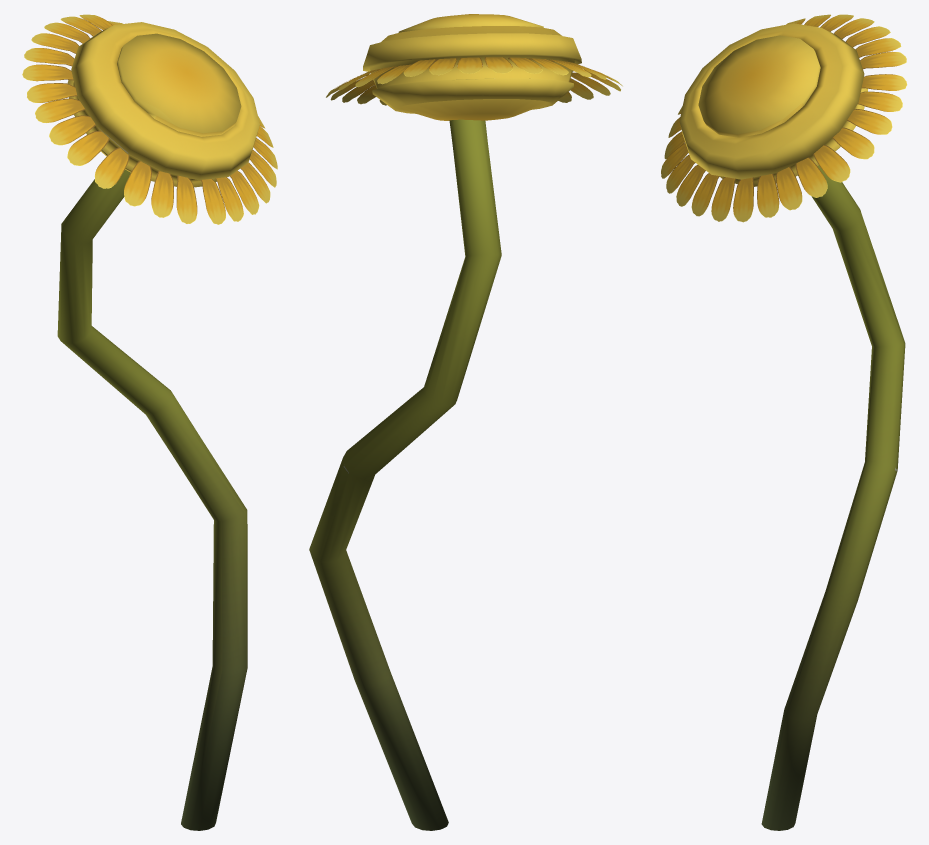
Rendered from Zolty_Kwiatek_Naprawiony_.fbx.
3 views of the same model, side by side, from view 1: azimuth 30°, elevation 25°; view 2: azimuth 150°, elevation 25°; view 3: azimuth 270°, elevation 25° (orthographic). The views are drawn at different scales.
Parts seen in each view (by area): view 1: Sphere.003; view 2: Sphere.003; view 3: Sphere.003.
Boxes of the visible parts, left/top/right/bottom form: Sphere.003: left=22, top=14, right=277, bottom=830; Sphere.003: left=309, top=14, right=622, bottom=830; Sphere.003: left=661, top=14, right=907, bottom=830.
Size of the model in its own units: 49.25 by 148 by 45.37.
